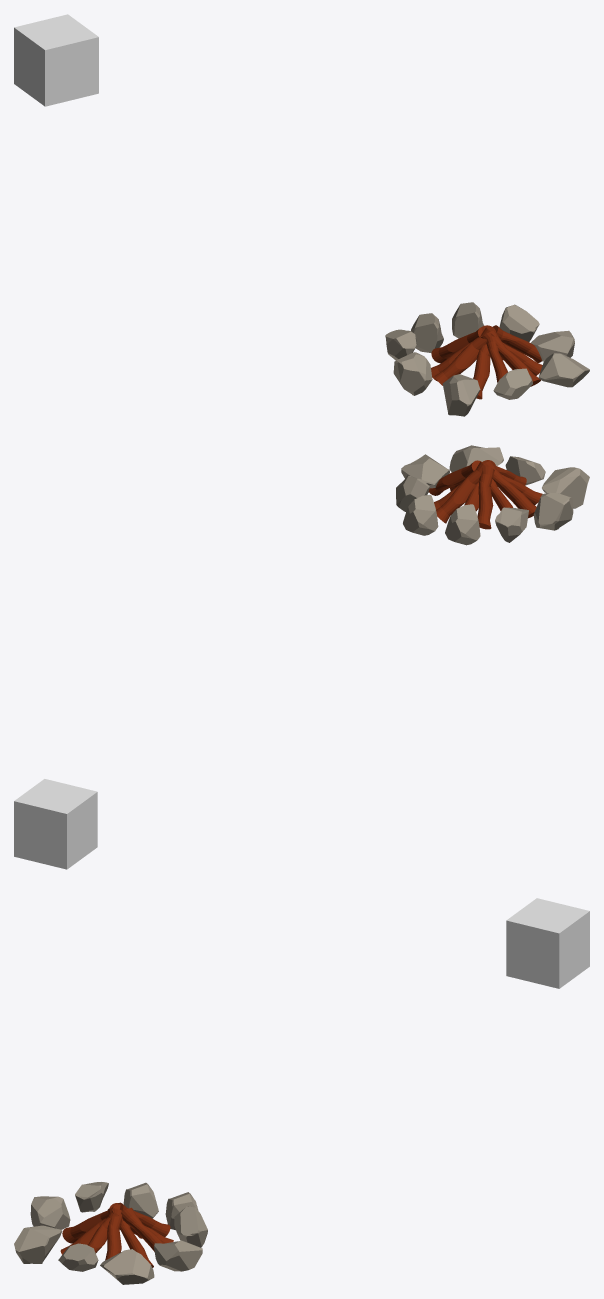
File: Bonfire.fbx
3 renders of one model, top to bottom at view 1: azimuth 30°, elevation 25°; view 2: azimuth 150°, elevation 25°; view 3: azimuth 330°, elevation 25°, orthographic.
Parts seen in each view (by area): view 1: Cube, LowPolyRock.007, LowPolyRock.004, LowPolyRock.002, LowPolyRock.006, LowPolyRock.001, LowPolyRock.008, Cylinder.008, LowPolyRock.003, LowPolyRock, LowPolyRock.005, Cylinder (+3 smaller); view 2: Cube, LowPolyRock.007, LowPolyRock.002, LowPolyRock.001, LowPolyRock, LowPolyRock.008, LowPolyRock.004, Cylinder.003, LowPolyRock.005, Cylinder.009, LowPolyRock.006, Cylinder.008 (+2 smaller); view 3: Cube, LowPolyRock.002, LowPolyRock.004, LowPolyRock.008, LowPolyRock.007, LowPolyRock.006, LowPolyRock.001, LowPolyRock.003, LowPolyRock.005, Cylinder.004, Cylinder.008, LowPolyRock (+1 smaller).
Boxes of the visible parts, bbox=[...] form: Cube: bbox=[14, 14, 98, 106]; LowPolyRock.007: bbox=[393, 352, 432, 395]; LowPolyRock.004: bbox=[538, 353, 589, 387]; LowPolyRock.002: bbox=[442, 374, 480, 416]; LowPolyRock.006: bbox=[499, 304, 539, 341]; LowPolyRock.001: bbox=[411, 313, 443, 352]; LowPolyRock.008: bbox=[531, 330, 574, 361]; Cylinder.008: bbox=[434, 327, 494, 385]; LowPolyRock.003: bbox=[493, 368, 532, 399]; LowPolyRock: bbox=[452, 302, 483, 338]; LowPolyRock.005: bbox=[385, 329, 417, 360]; Cylinder: bbox=[493, 325, 542, 362]; Cube: bbox=[14, 779, 97, 869]; LowPolyRock.007: bbox=[533, 492, 573, 530]; LowPolyRock.002: bbox=[542, 467, 589, 508]; LowPolyRock.001: bbox=[445, 504, 480, 545]; LowPolyRock: bbox=[403, 495, 438, 535]; LowPolyRock.008: bbox=[401, 454, 449, 492]; LowPolyRock.004: bbox=[449, 445, 503, 472]; Cylinder.003: bbox=[436, 461, 485, 523]; LowPolyRock.005: bbox=[495, 507, 528, 542]; Cylinder.009: bbox=[477, 466, 494, 529]; LowPolyRock.006: bbox=[396, 475, 429, 511]; Cylinder.008: bbox=[483, 460, 536, 518]; Cube: bbox=[506, 898, 589, 988]; LowPolyRock.002: bbox=[14, 1225, 61, 1263]; LowPolyRock.004: bbox=[100, 1249, 154, 1284]; LowPolyRock.008: bbox=[154, 1240, 202, 1271]; LowPolyRock.007: bbox=[30, 1196, 70, 1229]; LowPolyRock.006: bbox=[174, 1206, 207, 1247]; LowPolyRock.001: bbox=[123, 1182, 158, 1218]; LowPolyRock.003: bbox=[58, 1243, 98, 1271]; LowPolyRock.005: bbox=[75, 1182, 108, 1212]; Cylinder.004: bbox=[105, 1208, 122, 1260]; Cylinder.008: bbox=[62, 1204, 122, 1243]; LowPolyRock: bbox=[165, 1192, 198, 1230].
Size of the model in its own units: 638 by 283 by 3170.
